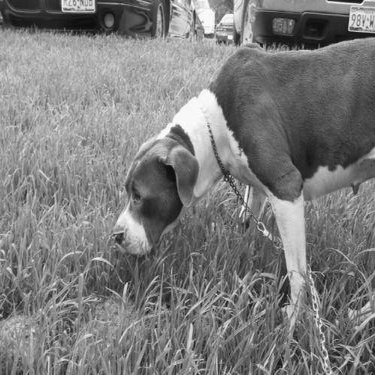dog: (103, 17, 372, 339)
